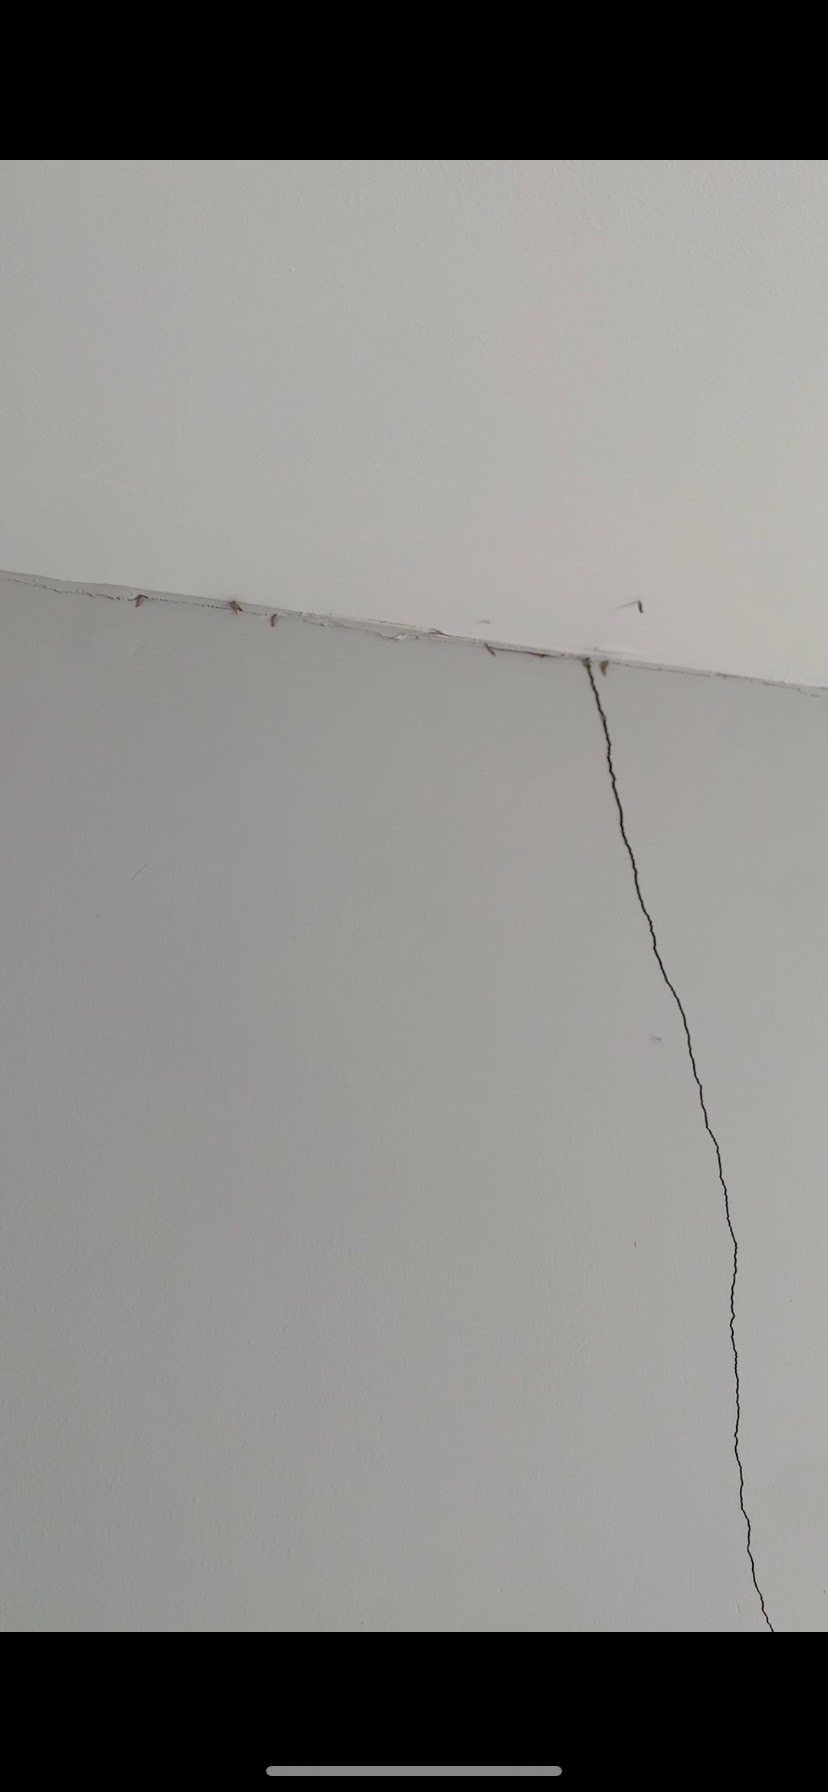Low: (524, 648, 828, 1637)
